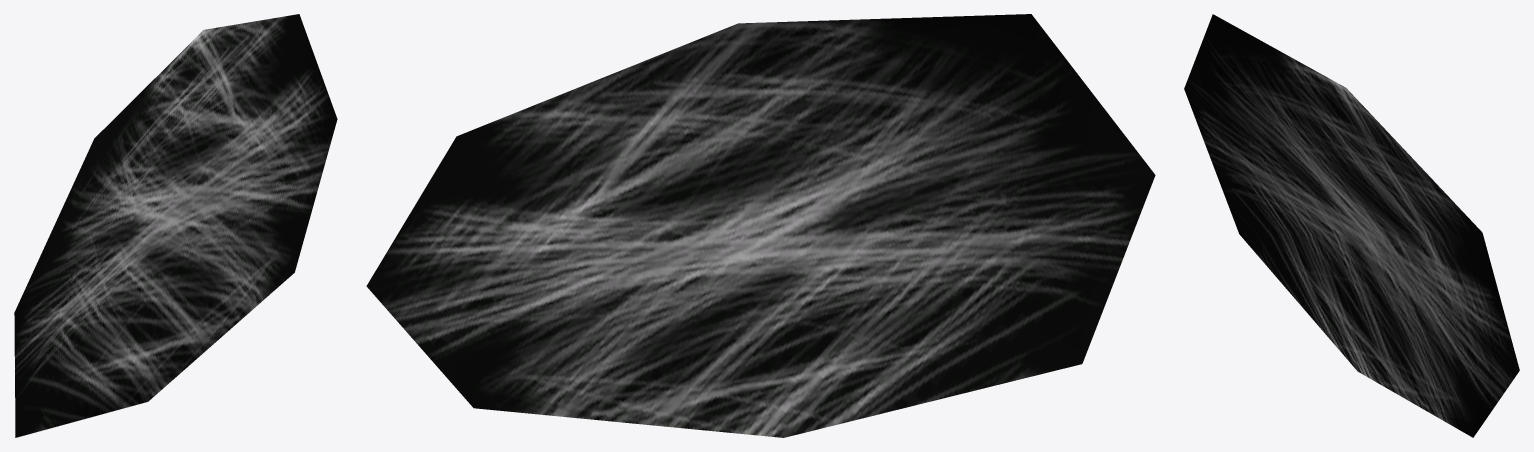
File: MIRKWOOD_SPIDERWEB_COVERS13.fbx
3 views of the same model, side by side, from view 1: azimuth 30°, elevation 25°; view 2: azimuth 150°, elevation 25°; view 3: azimuth 270°, elevation 25° (orthographic). The views are drawn at different scales.
Visible parts, largest first — view 1: MIRKWOOD_SPIDERWEB_COVERS13; view 2: MIRKWOOD_SPIDERWEB_COVERS13; view 3: MIRKWOOD_SPIDERWEB_COVERS13.
Part boxes in pixels (box(x1,y1,x2,y2)): MIRKWOOD_SPIDERWEB_COVERS13: box(14, 14, 337, 437); MIRKWOOD_SPIDERWEB_COVERS13: box(366, 14, 1155, 437); MIRKWOOD_SPIDERWEB_COVERS13: box(1184, 14, 1519, 437).
Bounding box in the file's own units: 39393 × 26173 × 26252.
Materials: 1 (1 with a texture image).
